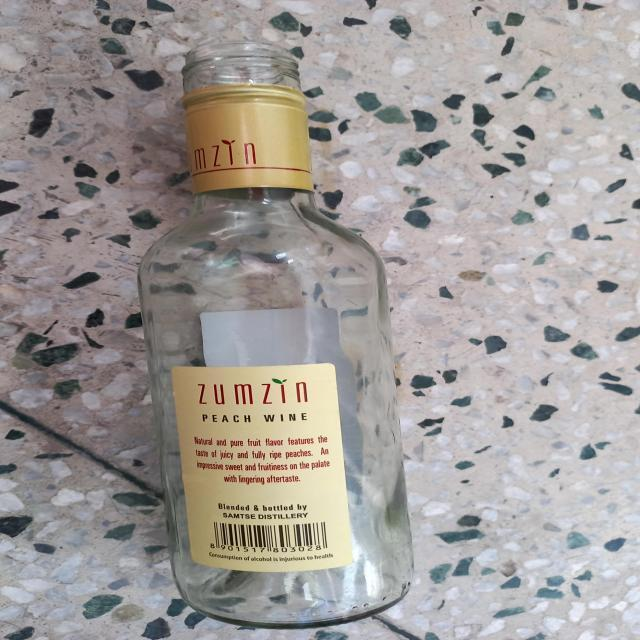Glass: (138, 41, 414, 630)
